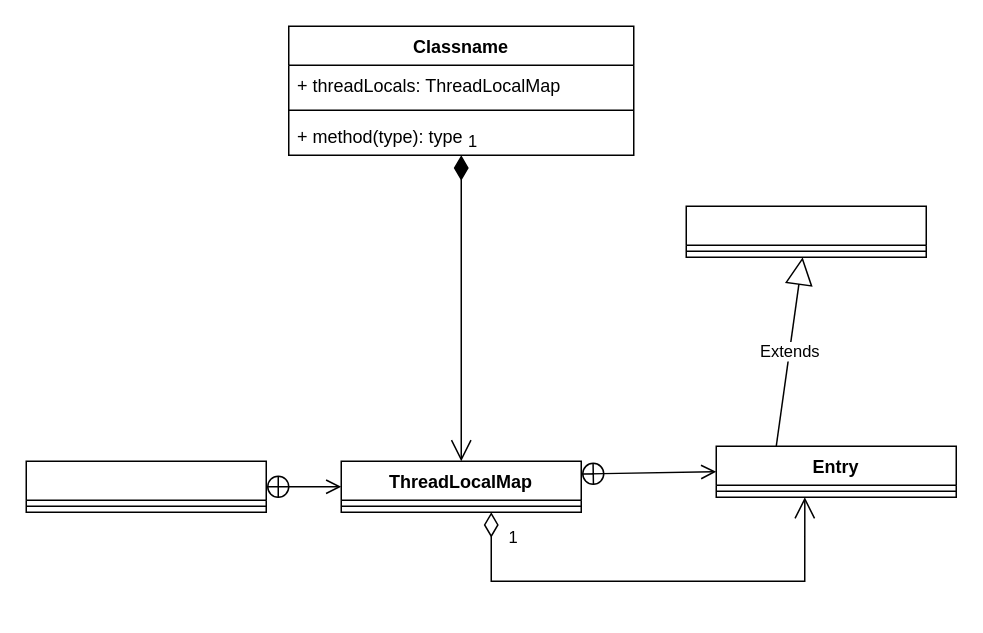
The diagram is 983 pixels wide and 633 high, and some of its shapes have lost their labels. Here are the shapes that lost their labels. From the top down, the centre of each, then its label:
At pixel 805 231: "WeakReference".
At pixel 145 486: "ThreadLocal".
